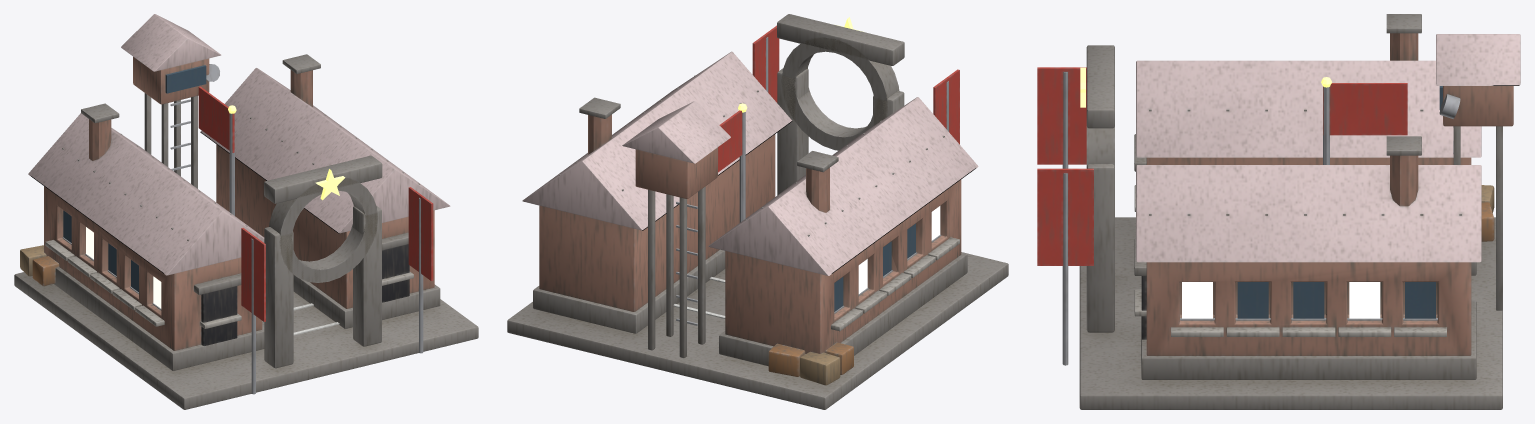
File: red_barracks.glb
3 views of the same model, side by side, from view 1: azimuth 30°, elevation 25°; view 2: azimuth 150°, elevation 25°; view 3: azimuth 270°, elevation 25° (orthographic). The views are drawn at different scales.
Parts seen in each view (by area): view 1: Hull; view 2: Hull; view 3: Hull.
Part boxes in pixels (left/top/right/bottom): Hull: left=14, top=14, right=478, bottom=409; Hull: left=507, top=14, right=1008, bottom=409; Hull: left=1037, top=14, right=1520, bottom=409.
Bounding box in the file's own units: 6 × 4.49 × 6.85.
Materials: 13 (13 with a texture image).
